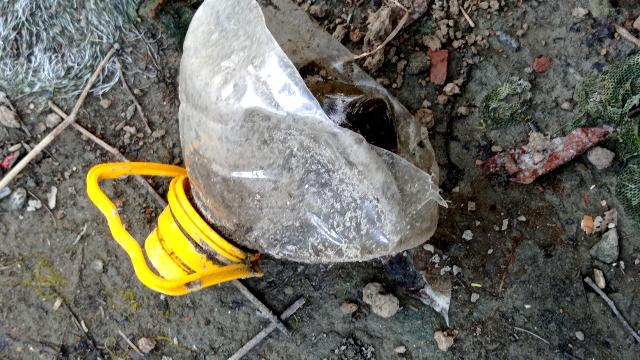bottle: (25, 0, 457, 360)
